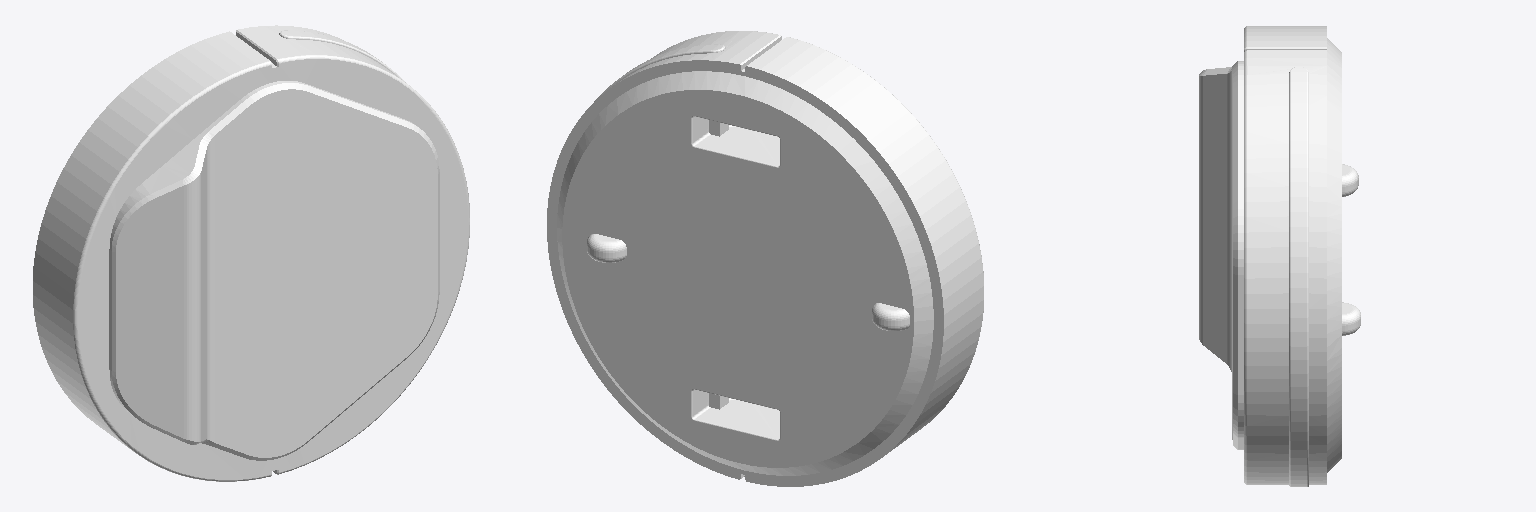
File: main_body.obj
The picture shows the model from 3 angles: view 1: azimuth 30°, elevation 25°; view 2: azimuth 150°, elevation 25°; view 3: azimuth 270°, elevation 25°; orthographic projection.
Bounding box in the file's own units: 0.3518 × 0.35 × 0.1243.